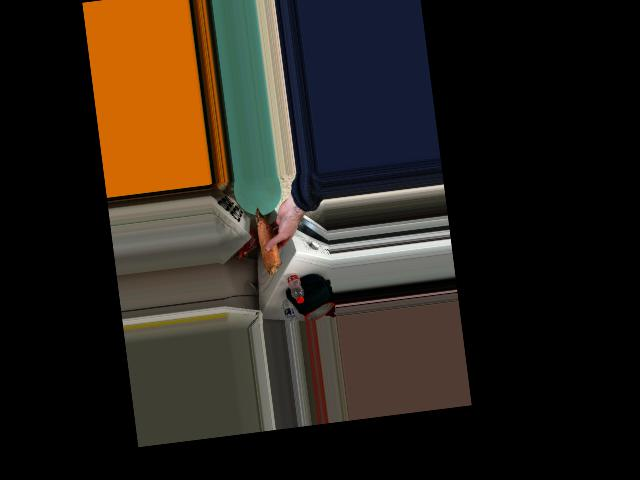sweet_potato: (249, 206, 281, 273)
